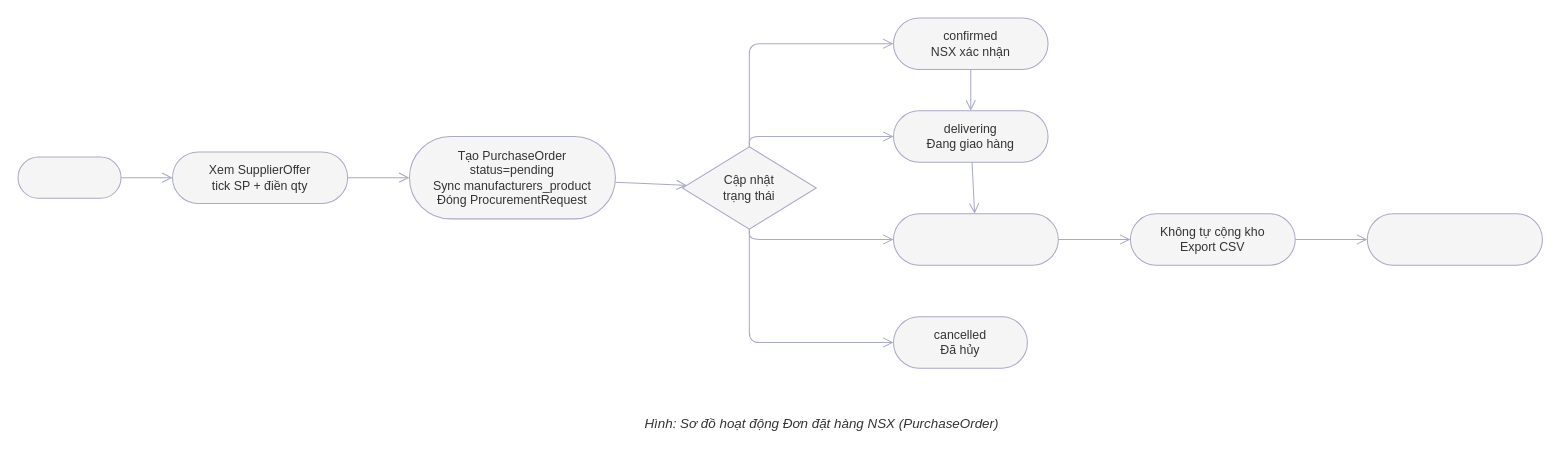
The diagram is 1560 pixels wide and 458 high, and some of its shapes have lost their labels. The box of each missing label's shape, as (x1, y1, x2, y2) in pixels:
Admin: (17, 156, 121, 198)
received Xác nhận nhận hàng: (892, 213, 1058, 265)
Upload vào Nhập Kho → cộng tồn kho: (1366, 213, 1542, 265)
